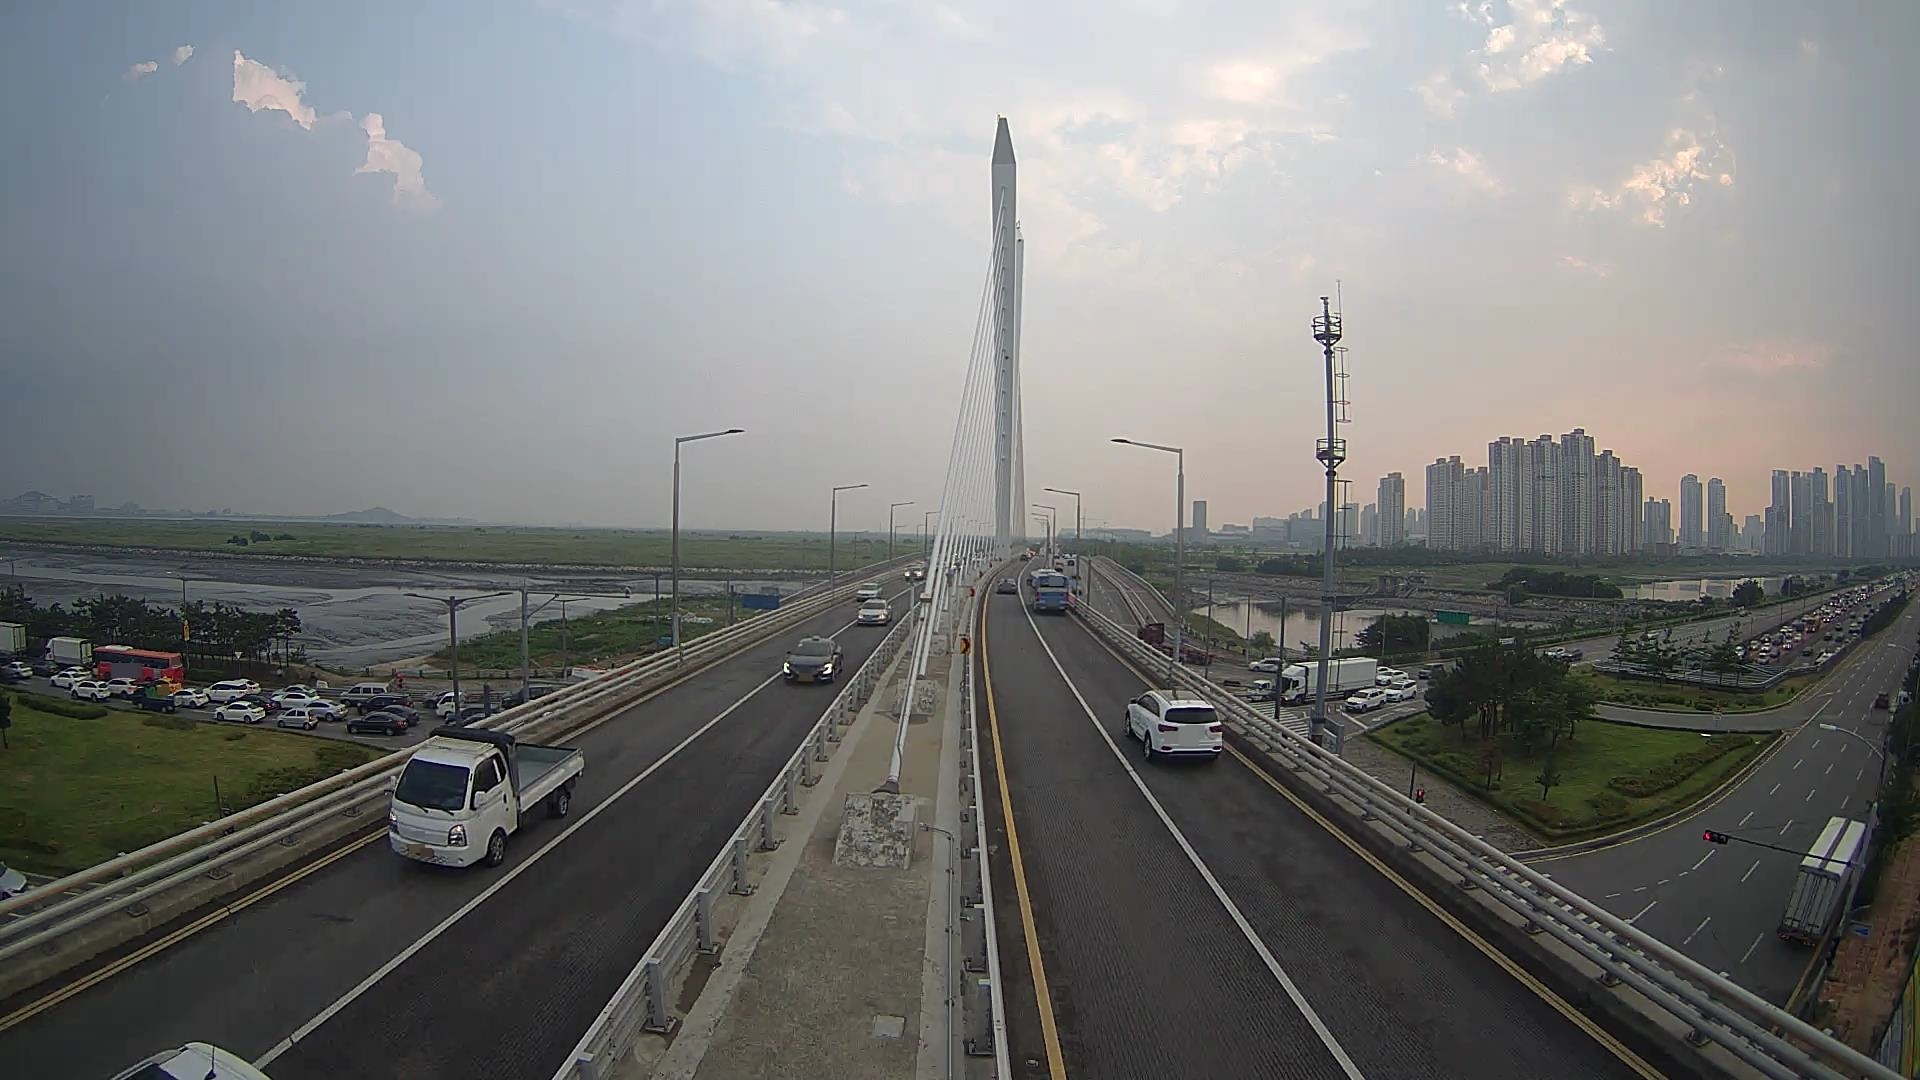정상차량: (384, 727, 584, 866)
